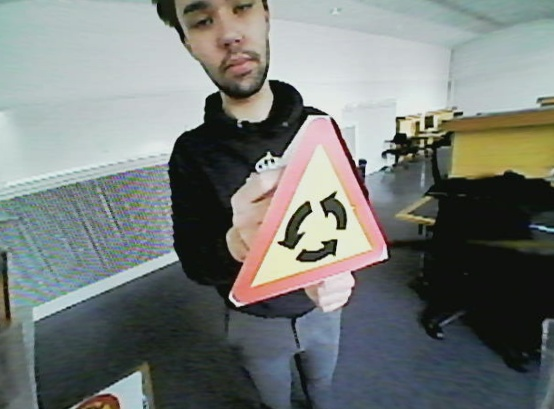roundabout_warning: (228, 111, 400, 310)
